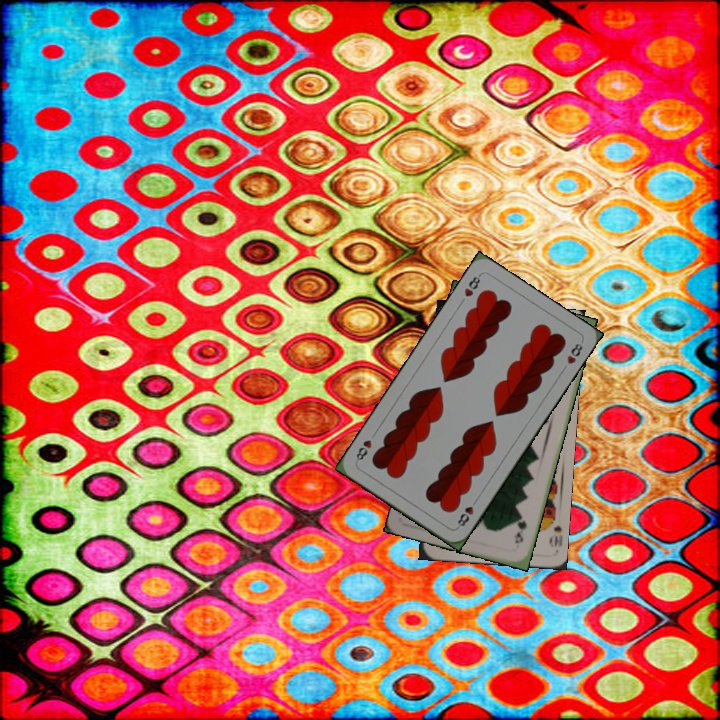G9: (511, 511, 529, 546)
H8: (453, 495, 480, 531), (460, 270, 483, 299)
S10: (545, 512, 564, 550)
